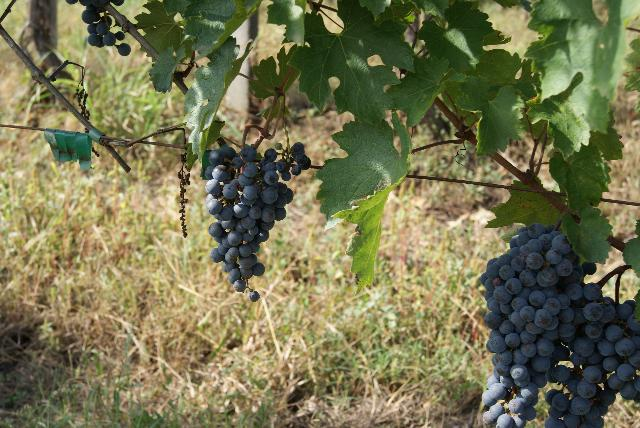grapes: (480, 222, 596, 428), (546, 284, 640, 428), (205, 145, 294, 292), (275, 142, 311, 181)
